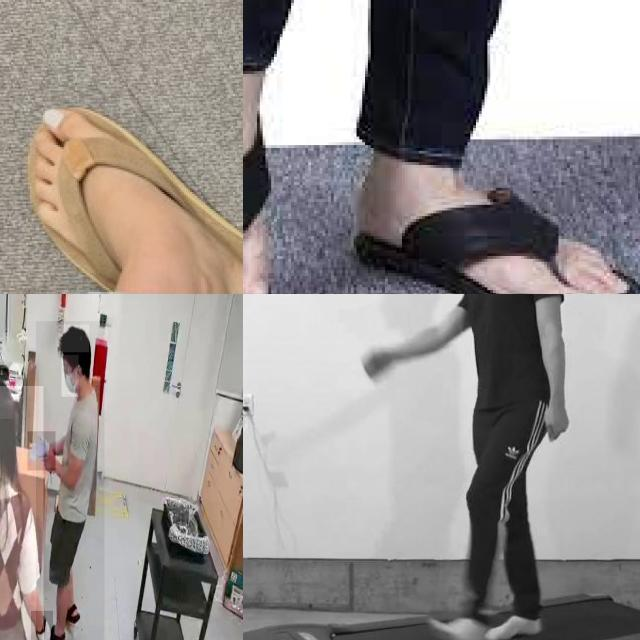Sandals: (352, 134, 640, 294), (26, 101, 243, 294)
face_mask: (62, 355, 78, 397)
hand_glove: (28, 432, 56, 471), (30, 611, 53, 640)
hand_noglove: (519, 386, 582, 455), (366, 334, 416, 395)
head_nohelmet: (59, 325, 90, 353), (0, 376, 14, 419)
person: (359, 294, 569, 640), (36, 321, 105, 640), (0, 386, 44, 640)
